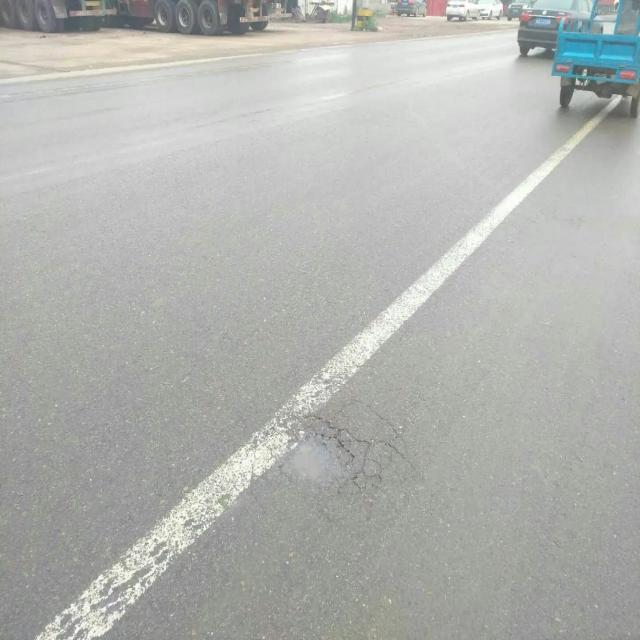Pothole: (274, 405, 389, 502)
